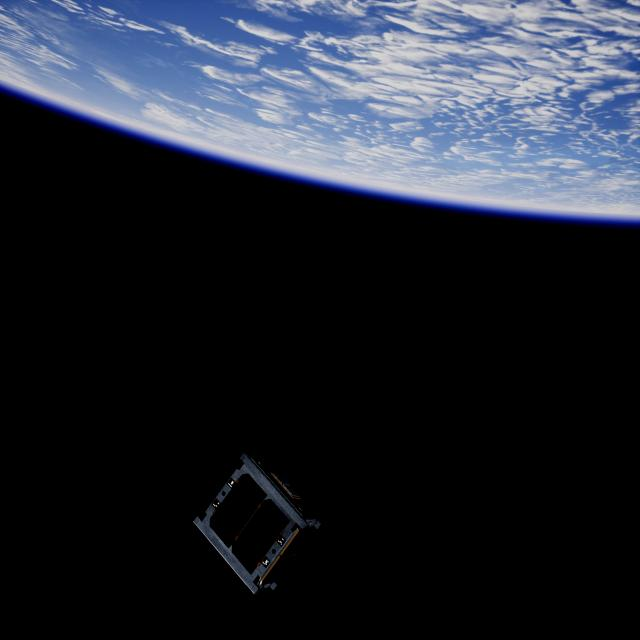satellite: (192, 451, 323, 597)
